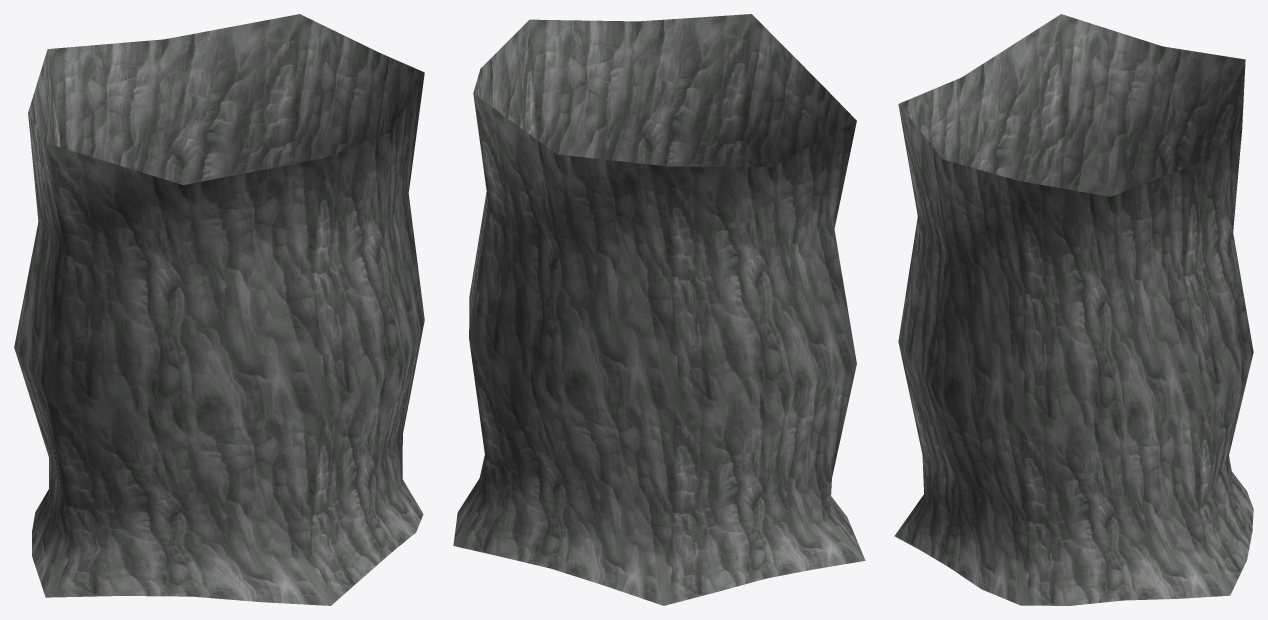
The model's file is SWORDLIGHT20_PS-AREA04_12.fbx.
The picture shows the model from 3 angles, left to right: view 1: azimuth 30°, elevation 25°; view 2: azimuth 150°, elevation 25°; view 3: azimuth 270°, elevation 25°; orthographic projection. The views are drawn at different scales.
Parts seen in each view (by area): view 1: SWORDLIGHT20_PS-AREA04_12; view 2: SWORDLIGHT20_PS-AREA04_12; view 3: SWORDLIGHT20_PS-AREA04_12.
Boxes of the visible parts, x1,y1,x2,y2 form: SWORDLIGHT20_PS-AREA04_12: [14, 14, 424, 605]; SWORDLIGHT20_PS-AREA04_12: [453, 14, 865, 605]; SWORDLIGHT20_PS-AREA04_12: [894, 14, 1253, 605].
Size of the model in its own units: 68360 by 79241 by 59681.
1 material, 1 textured.
